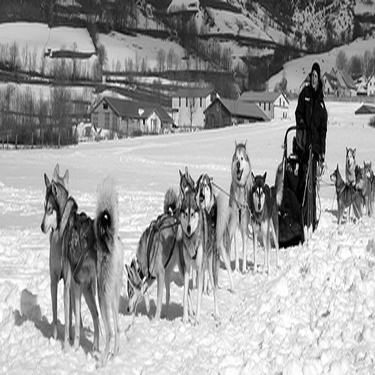dog: (27, 162, 129, 369), (96, 207, 186, 342), (134, 188, 220, 323), (30, 152, 87, 352), (233, 150, 293, 290), (211, 128, 260, 277), (153, 166, 207, 281), (199, 165, 234, 292), (316, 169, 364, 238), (342, 167, 373, 223), (349, 159, 373, 210), (341, 140, 360, 193)
